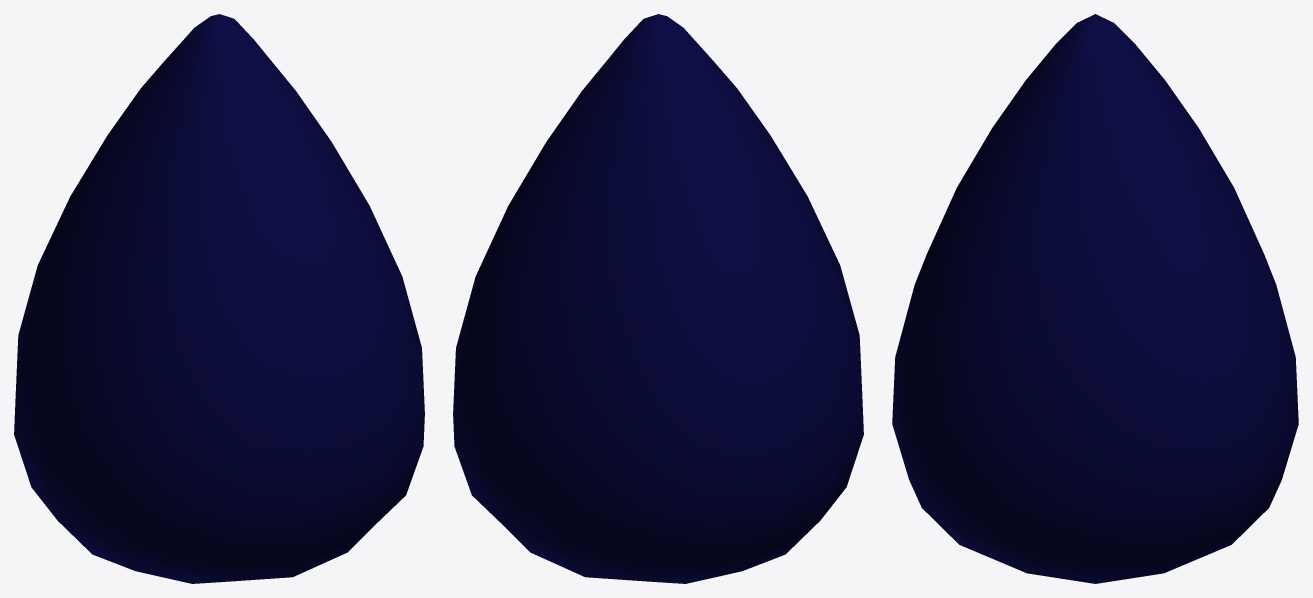
The model's file is drop.obj.
The picture shows the model from 3 angles, left to right: view 1: azimuth 30°, elevation 25°; view 2: azimuth 150°, elevation 25°; view 3: azimuth 270°, elevation 25°; orthographic projection.
Parts seen in each view (by area): view 1: Light_Drop.001_Cube.147; view 2: Light_Drop.001_Cube.147; view 3: Light_Drop.001_Cube.147.
Part boxes in pixels (x1=…): Light_Drop.001_Cube.147: x1=14, y1=14, x2=424, y2=583; Light_Drop.001_Cube.147: x1=453, y1=14, x2=863, y2=583; Light_Drop.001_Cube.147: x1=892, y1=14, x2=1298, y2=583.
Size of the model in its own units: 0.1788 by 0.263 by 0.1788.
